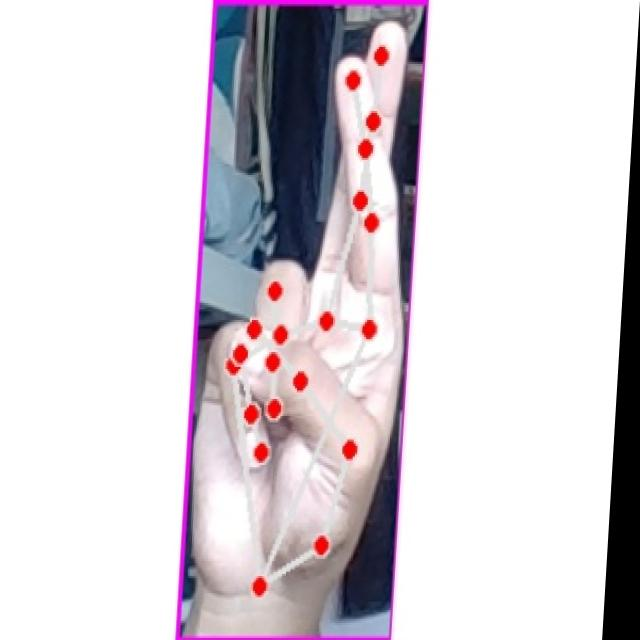R: (197, 20, 418, 613)
